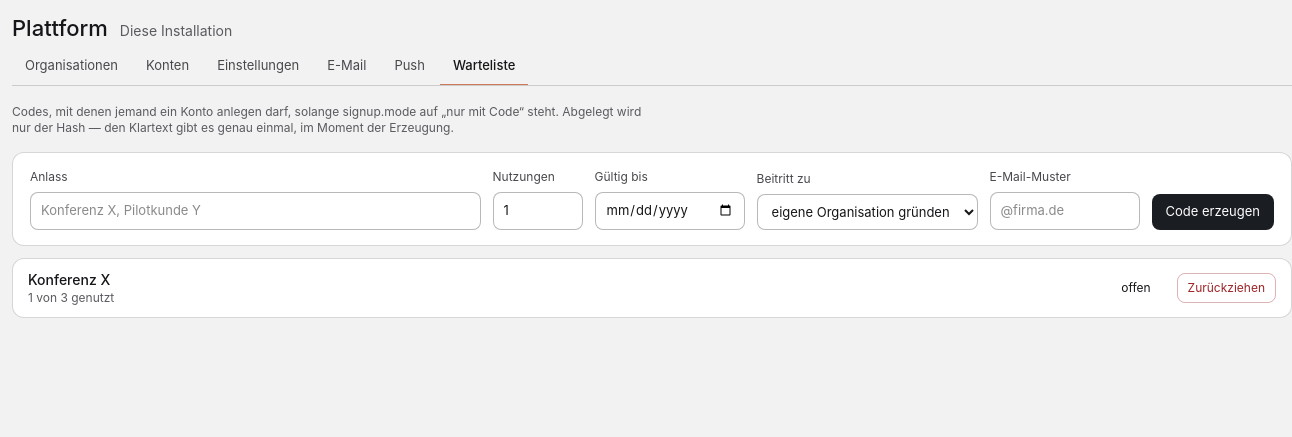
Test case: Plattform-Panel › hält den Klartext eines neuen Codes fest, bis er weggeklickt wird
expect the text "Konferenz X" is shown: met, box x1=28 y1=270 x2=110 y2=288
expect the text "1 von 3 genutzt" is shown: met, box x1=28 y1=290 x2=114 y2=304
In the field with placeholder "Konferenz X, Pilotkunde Y": (255, 211) x1=30 y1=192 x2=480 y2=230, type "Pilot"
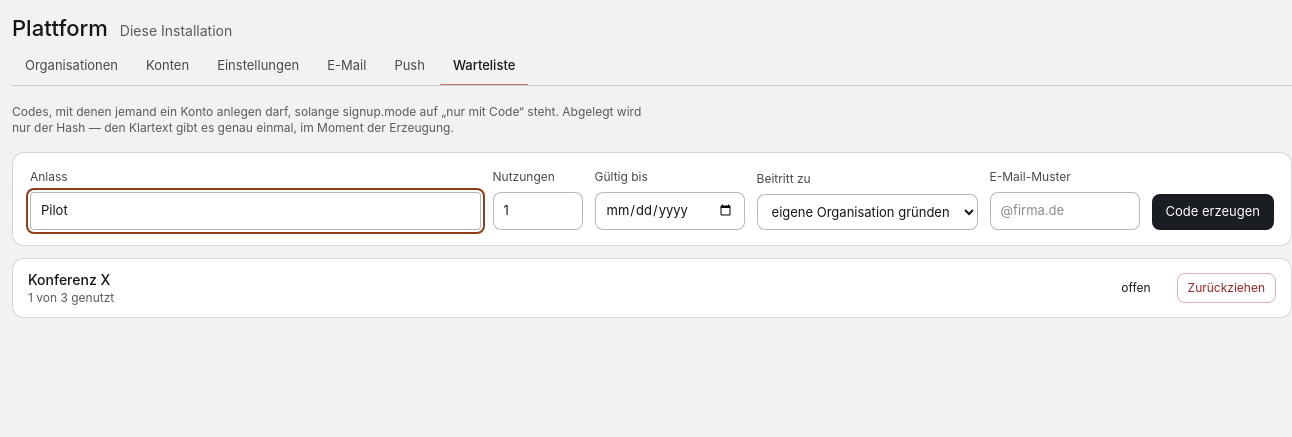
Click the button "Code erzeugen": (1213, 212) x1=1152 y1=194 x2=1274 y2=230
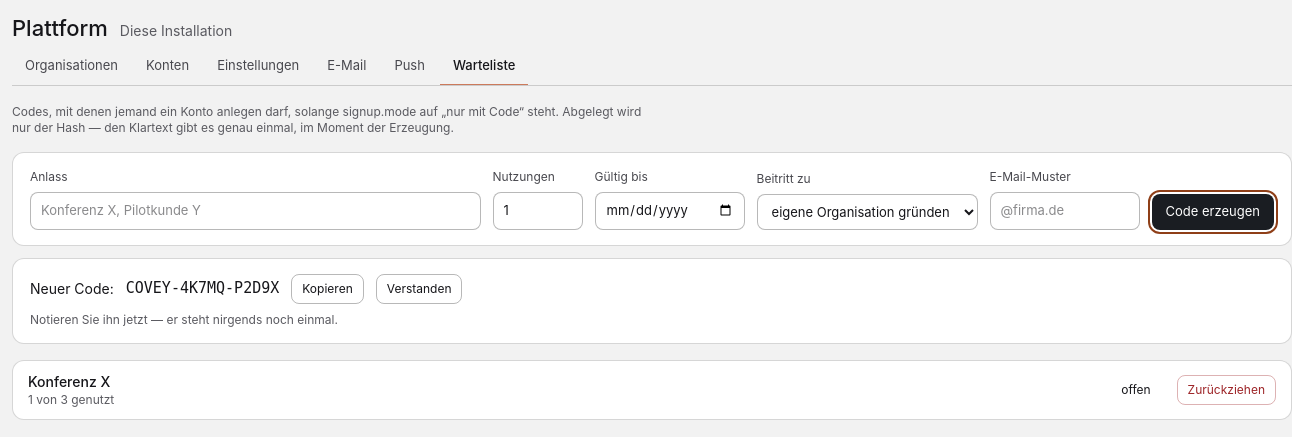
expect the text "COVEY-4K7MQ-P2D9X" is shown: met, box x1=126 y1=278 x2=279 y2=299
Click the button "Verstanden": (419, 288) x1=376 y1=274 x2=462 y2=304
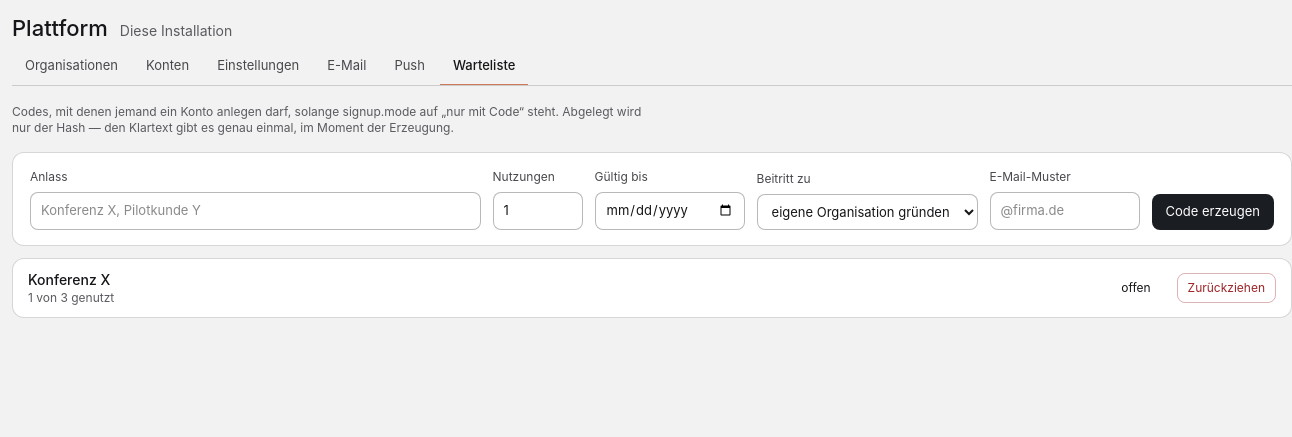
expect the text "COVEY-4K7MQ-P2D9X" is gone: met
